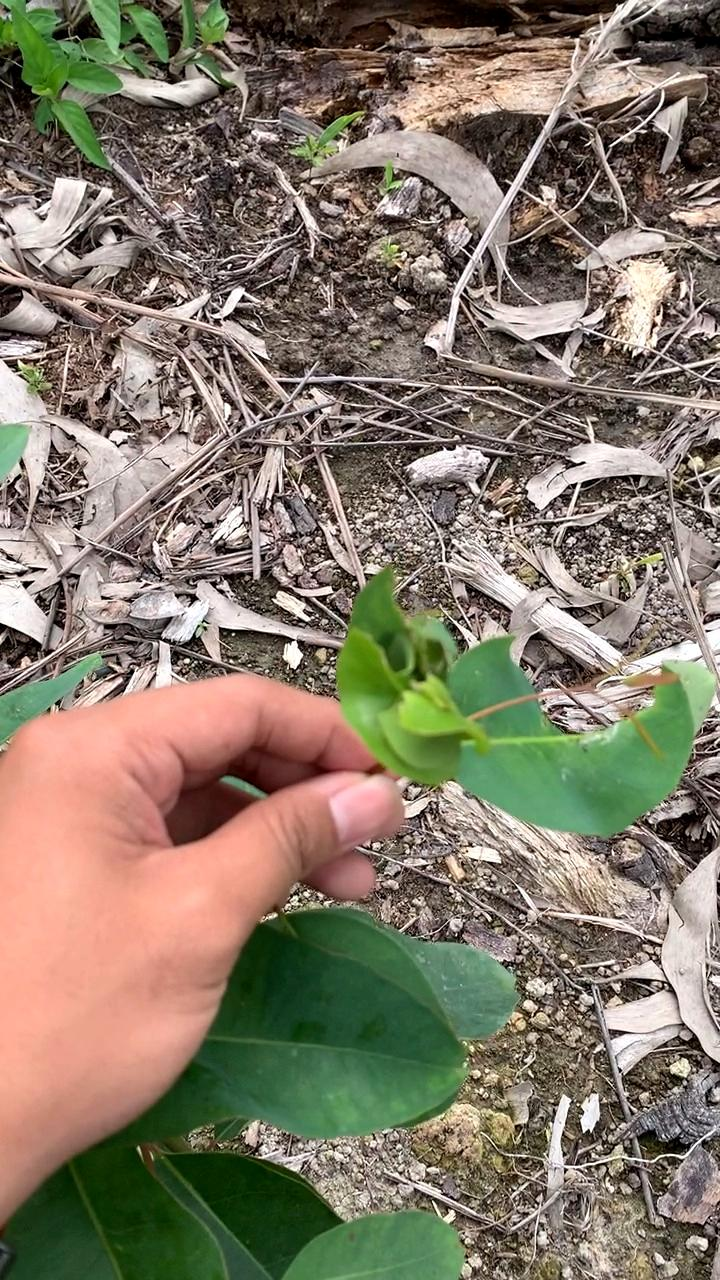Leaf Roller - Leaf: (335, 576, 495, 787)
